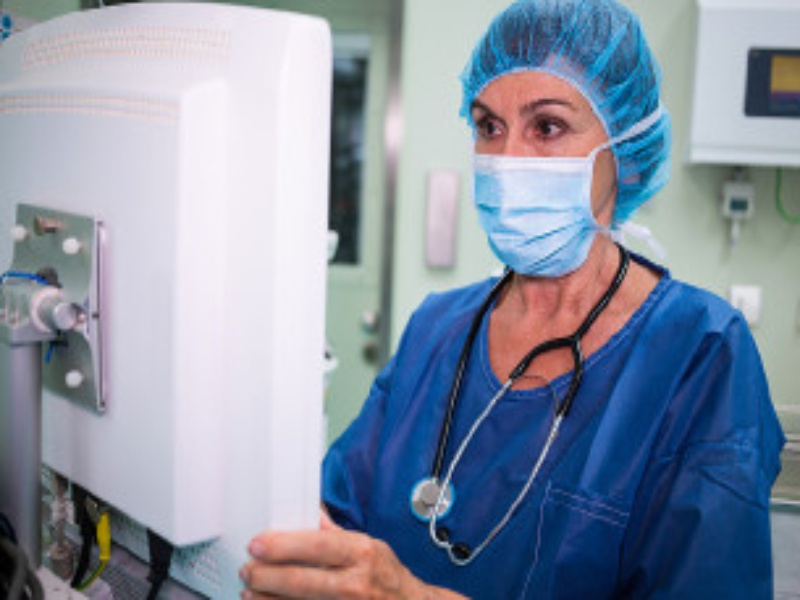mask: (444, 1, 665, 284)
